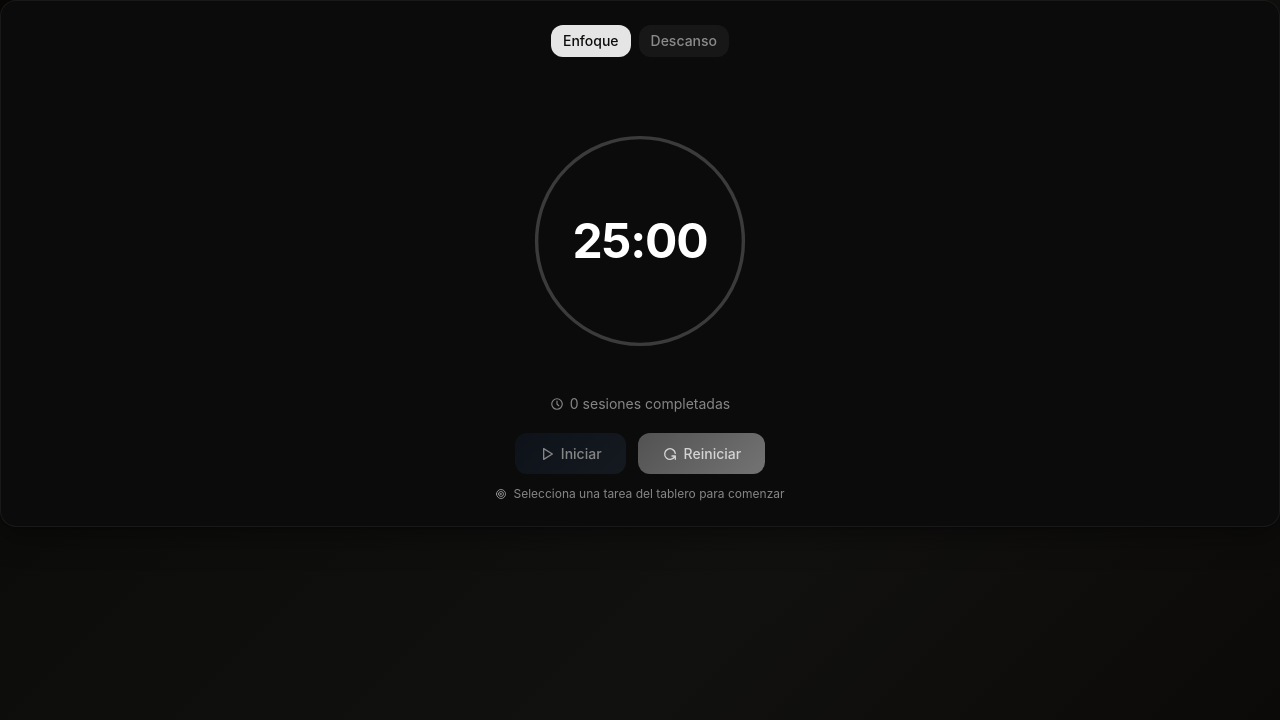
Scenario: TimerCard mode tabs › switching to the break tab loads its duration and leaves the timer idle
The width and height of the screenshot is (1280, 720).
Click the tab "Descanso": (684, 41) [638, 25, 729, 57]
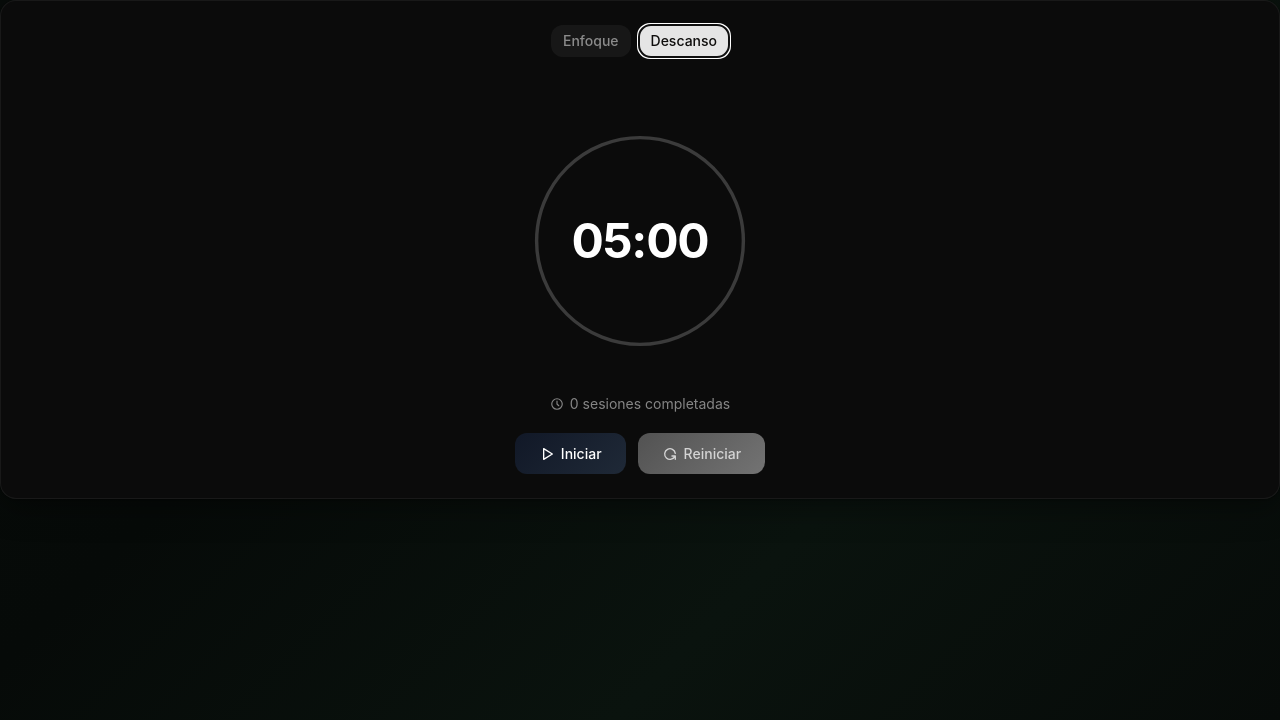
Result: the text "05:00" is shown at [572, 217, 708, 265]
